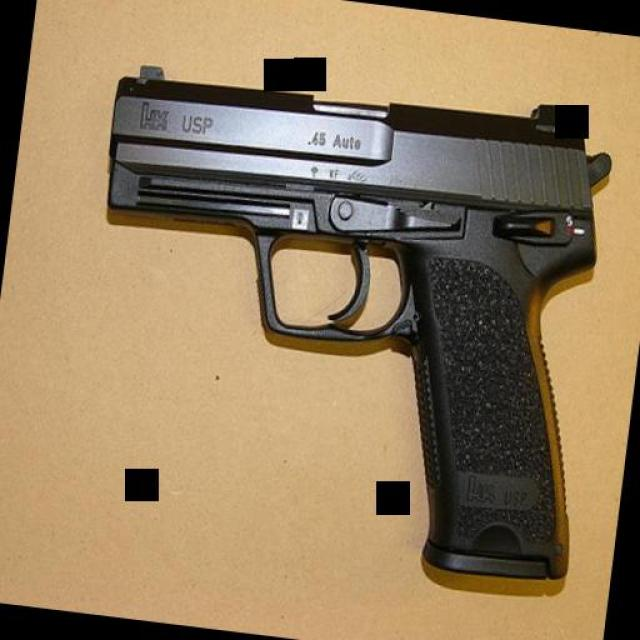gun: (60, 49, 625, 584)
